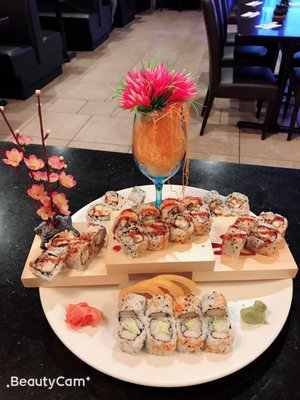curry: (5, 141, 300, 398)
pasta: (199, 0, 287, 138)
sandwich: (116, 273, 235, 355), (132, 106, 189, 209), (26, 218, 107, 281), (112, 205, 169, 258)
sushi: (0, 0, 65, 102)
